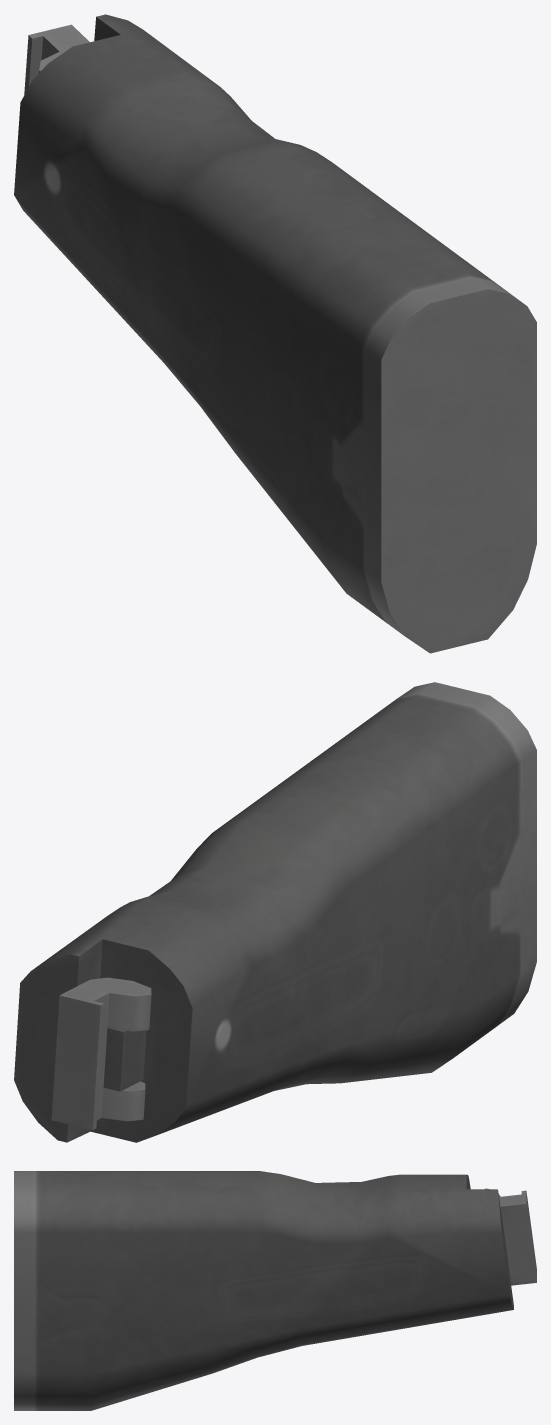
Rendered from IG_Acc_Stock_ALL_REC_2.fbx.
The picture shows the model from 3 angles, top to bottom: view 1: azimuth 30°, elevation 25°; view 2: azimuth 150°, elevation 25°; view 3: azimuth 270°, elevation 25°; orthographic projection. The views are drawn at different scales.
Parts seen in each view (by area): view 1: Stock_ALL_REC_2; view 2: Stock_ALL_REC_2; view 3: Stock_ALL_REC_2.
Part boxes in pixels (left/top/right/bottom): Stock_ALL_REC_2: left=14, top=14, right=536, bottom=653; Stock_ALL_REC_2: left=14, top=682, right=536, bottom=1142; Stock_ALL_REC_2: left=14, top=1171, right=536, bottom=1410.
Bounding box in the file's own units: 0.0752 × 0.1614 × 0.345.
